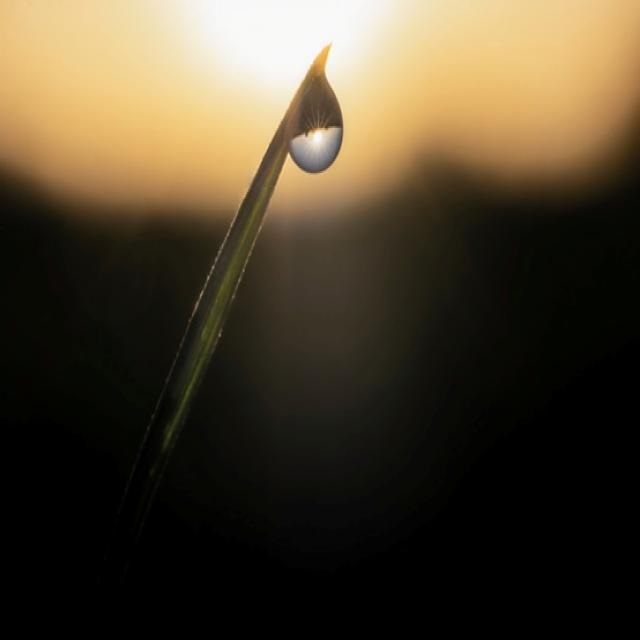raindrop: (283, 61, 360, 192)
